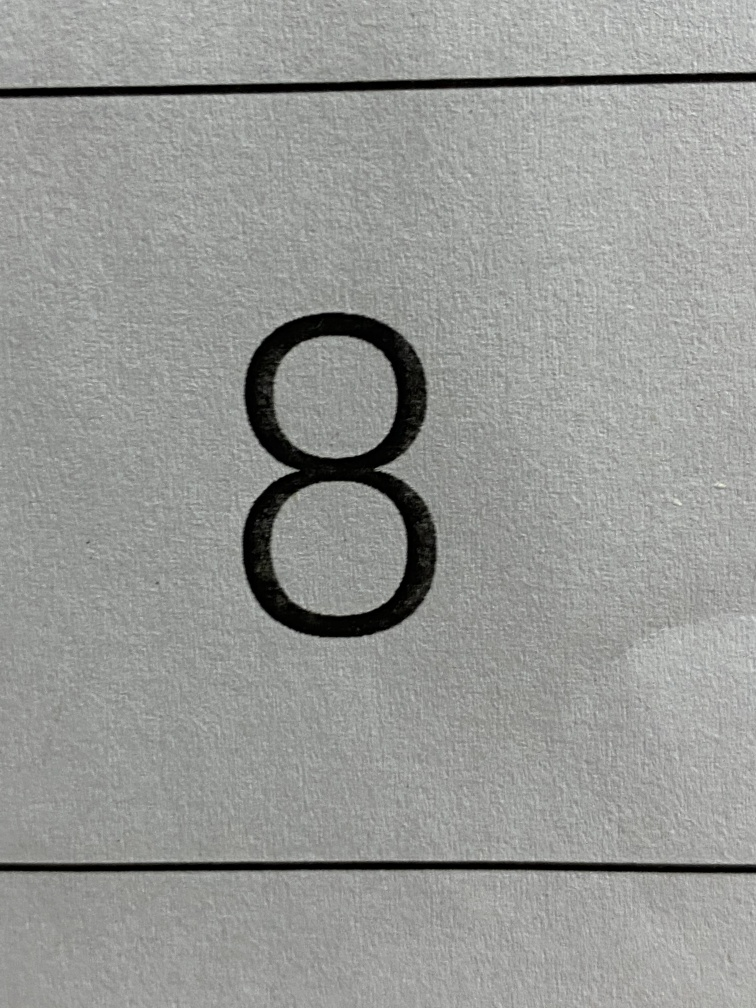eight: (166, 252, 521, 697)
